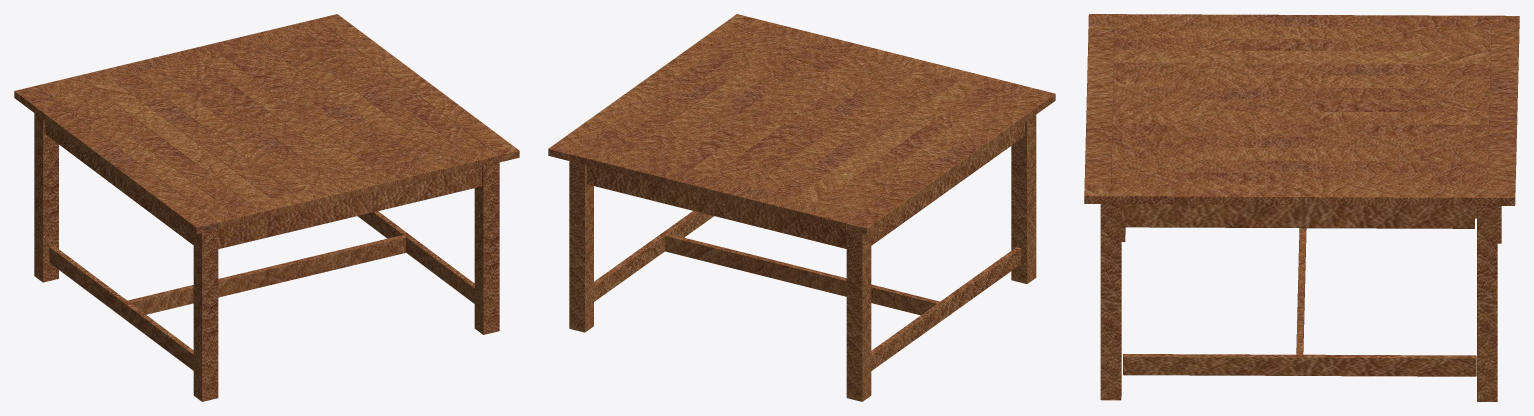
The picture shows the model from 3 angles, left to right: view 1: azimuth 30°, elevation 25°; view 2: azimuth 150°, elevation 25°; view 3: azimuth 270°, elevation 25°; orthographic projection. The views are drawn at different scales.
Visible parts, largest first — view 1: deeeesk; view 2: deeeesk; view 3: deeeesk.
Part boxes in pixels (x1,y1,x2,y2): deeeesk: [14, 14, 519, 401]; deeeesk: [548, 14, 1055, 401]; deeeesk: [1084, 14, 1519, 401].
Size of the model in its own units: 14.79 by 7.95 by 14.79.
1 material, 1 textured.
